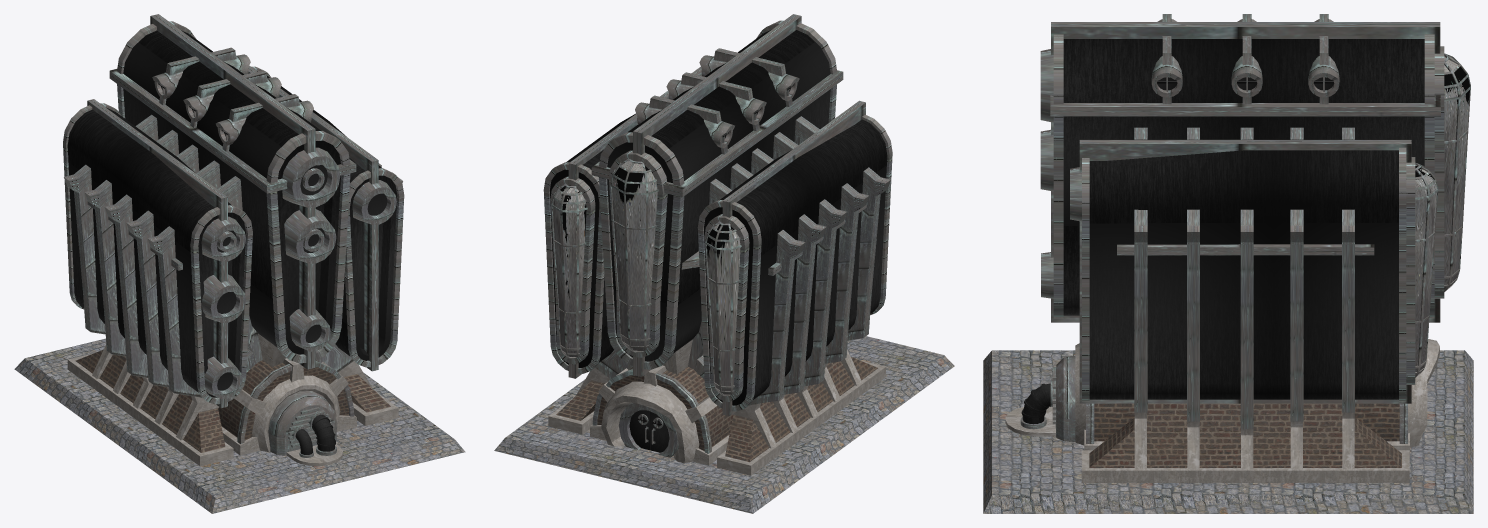
File: Edificio2.obj
The picture shows the model from 3 angles, left to right: view 1: azimuth 30°, elevation 25°; view 2: azimuth 150°, elevation 25°; view 3: azimuth 270°, elevation 25°; orthographic projection. The views are drawn at different scales.
Parts seen in each view (by area): view 1: polySurface318_RastMetal_01_0_RastMetal_01, polySurface318_RastMetal_01_0_Metal_02, polySurface318_RastMetal_01_0_YardMat_01, polySurface318_RastMetal_01_0_Concrete_01, polySurface318_RastMetal_01_0_Brick_01, polySurface318_RastMetal_01_0_BlackMetal_01; view 2: polySurface318_RastMetal_01_0_RastMetal_01, polySurface318_RastMetal_01_0_Metal_02, polySurface318_RastMetal_01_0_YardMat_01, polySurface318_RastMetal_01_0_Decal_01, polySurface318_RastMetal_01_0_Concrete_01, polySurface318_RastMetal_01_0_Brick_01; view 3: polySurface318_RastMetal_01_0_Metal_02, polySurface318_RastMetal_01_0_RastMetal_01, polySurface318_RastMetal_01_0_YardMat_01, polySurface318_RastMetal_01_0_Brick_01, polySurface318_RastMetal_01_0_Concrete_01, polySurface318_RastMetal_01_0_Decal_01, polySurface318_RastMetal_01_0_BlackMetal_01.
Part boxes in pixels (<box>): polySurface318_RastMetal_01_0_RastMetal_01: <box>63,14,404,457</box>; polySurface318_RastMetal_01_0_Metal_02: <box>67,30,397,397</box>; polySurface318_RastMetal_01_0_YardMat_01: <box>14,338,465,513</box>; polySurface318_RastMetal_01_0_Concrete_01: <box>67,333,398,466</box>; polySurface318_RastMetal_01_0_Brick_01: <box>75,349,390,452</box>; polySurface318_RastMetal_01_0_BlackMetal_01: <box>216,165,387,454</box>; polySurface318_RastMetal_01_0_RastMetal_01: <box>543,14,892,457</box>; polySurface318_RastMetal_01_0_Metal_02: <box>549,30,887,452</box>; polySurface318_RastMetal_01_0_YardMat_01: <box>494,336,954,513</box>; polySurface318_RastMetal_01_0_Decal_01: <box>552,160,740,394</box>; polySurface318_RastMetal_01_0_Concrete_01: <box>548,339,885,475</box>; polySurface318_RastMetal_01_0_Brick_01: <box>556,355,877,462</box>; polySurface318_RastMetal_01_0_Metal_02: <box>1063,39,1424,399</box>; polySurface318_RastMetal_01_0_RastMetal_01: <box>1020,14,1470,443</box>; polySurface318_RastMetal_01_0_YardMat_01: <box>983,350,1473,513</box>; polySurface318_RastMetal_01_0_Brick_01: <box>1089,403,1401,467</box>; polySurface318_RastMetal_01_0_Concrete_01: <box>1005,339,1439,482</box>; polySurface318_RastMetal_01_0_Decal_01: <box>1415,56,1469,371</box>; polySurface318_RastMetal_01_0_BlackMetal_01: <box>1021,383,1050,424</box>.
Size of the model in its own units: 33.99 by 42.66 by 45.92.
